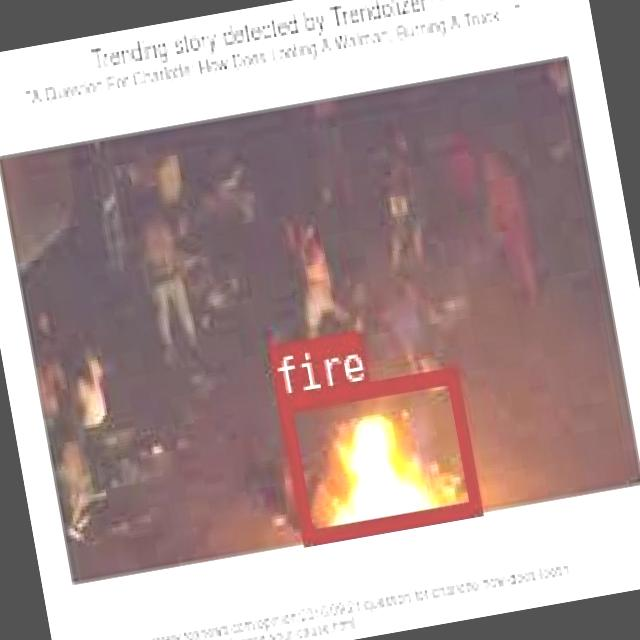fire: (276, 364, 478, 542)
